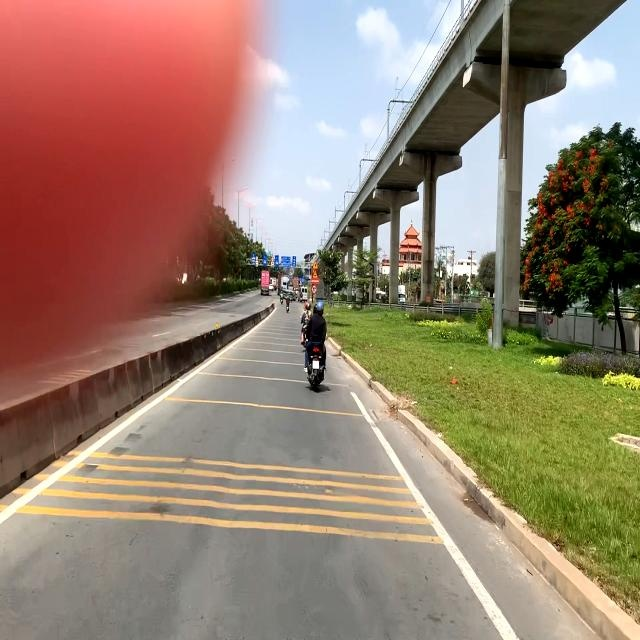bien_cam: (312, 269, 319, 278), (312, 260, 318, 269), (312, 284, 317, 294)
